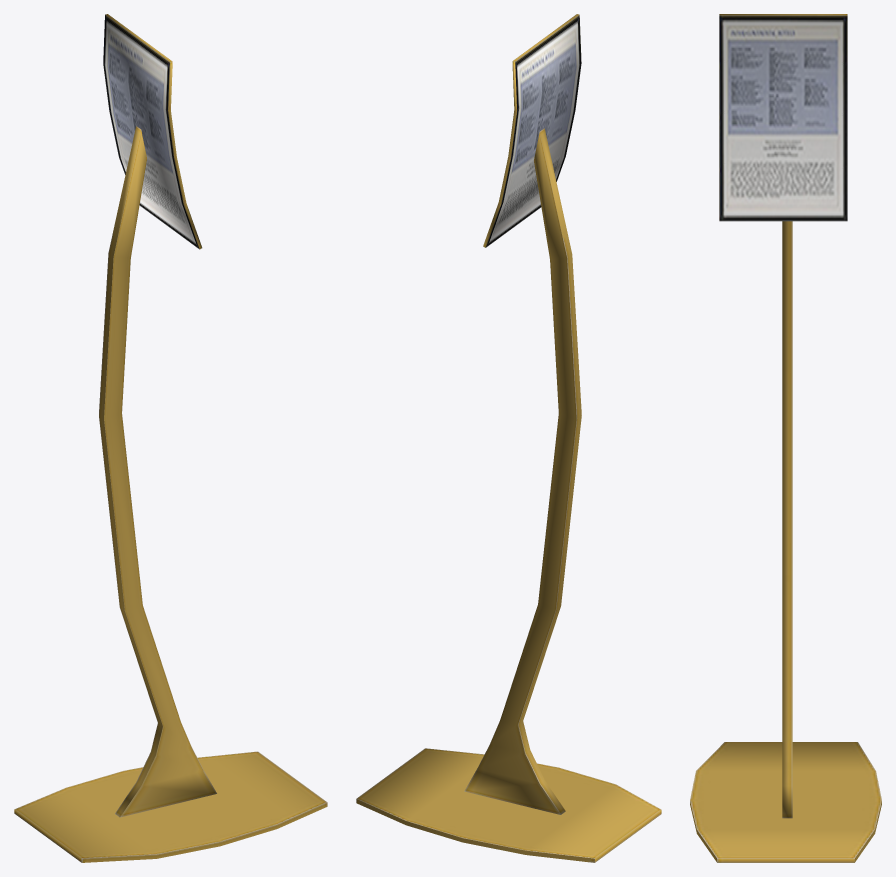
Rendered from LA_Signinfo.fbx.
3 views of the same model, side by side, from view 1: azimuth 30°, elevation 25°; view 2: azimuth 150°, elevation 25°; view 3: azimuth 270°, elevation 25° (orthographic).
Parts seen in each view (by area): view 1: prop_LA_Signinfo; view 2: prop_LA_Signinfo; view 3: prop_LA_Signinfo.
Boxes of the visible parts, left/top/right/bottom form: prop_LA_Signinfo: left=14, top=14, right=327, bottom=862; prop_LA_Signinfo: left=356, top=14, right=661, bottom=862; prop_LA_Signinfo: left=690, top=14, right=881, bottom=862.
Size of the model in its own units: 12.38 by 38.25 by 8.61.
